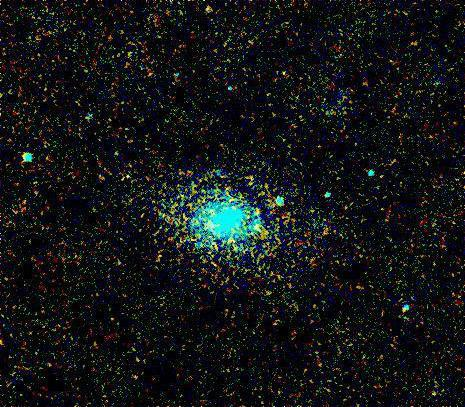star: (197, 0, 227, 23)
